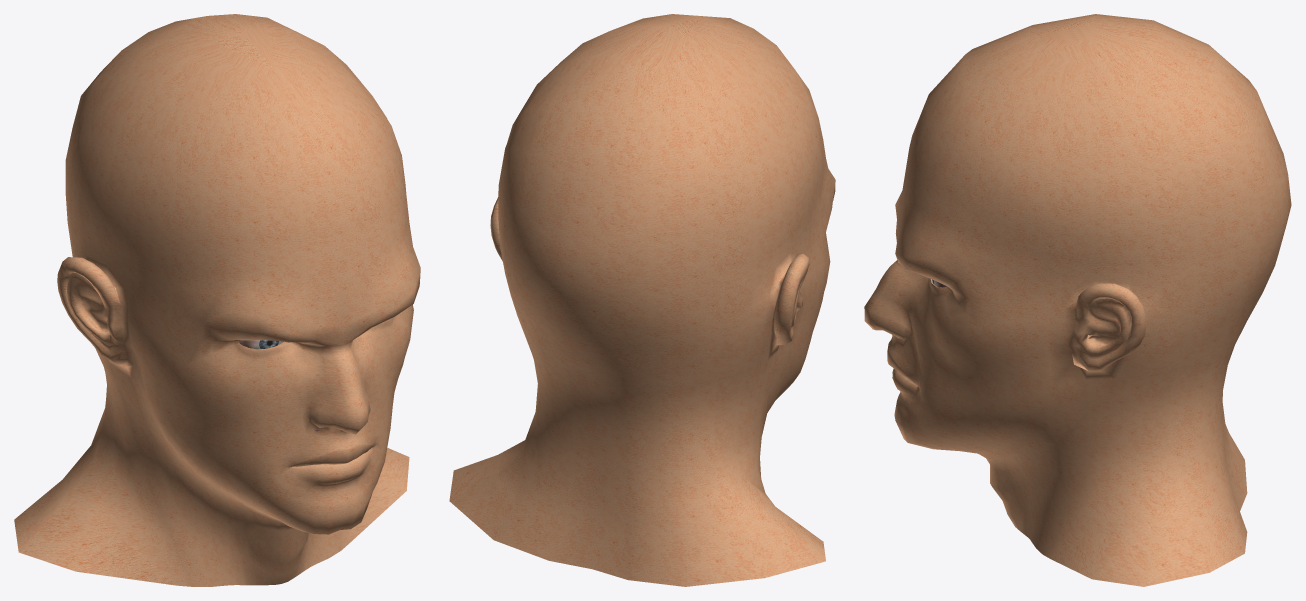
File: angry.FBX
3 renders of one model, left to right at view 1: azimuth 30°, elevation 25°; view 2: azimuth 150°, elevation 25°; view 3: azimuth 270°, elevation 25°, orthographic. The views are drawn at different scales.
Parts seen in each view (by area): view 1: head; view 2: head; view 3: head.
Boxes of the visible parts, left/top/right/bottom form: head: left=14, top=14, right=420, bottom=586; head: left=449, top=14, right=835, bottom=586; head: left=864, top=14, right=1291, bottom=586.
Bounding box in the file's own units: 44.22 × 43.8 × 56.51.
4 materials, 2 textured.
